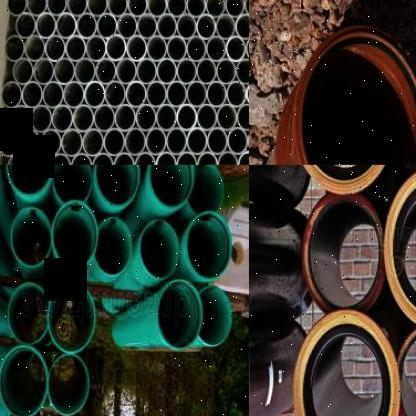pipe: (297, 28, 416, 165), (293, 308, 399, 416), (302, 192, 386, 312), (384, 166, 416, 330), (47, 280, 96, 353), (0, 345, 48, 416), (158, 278, 204, 350), (52, 199, 98, 268), (186, 211, 232, 279), (48, 354, 90, 416), (7, 282, 48, 345), (10, 207, 51, 266), (140, 219, 180, 279), (95, 216, 132, 276), (198, 286, 233, 346), (149, 165, 195, 207), (95, 165, 141, 206), (396, 325, 416, 416), (187, 164, 223, 214), (53, 164, 92, 202), (6, 165, 52, 195), (82, 128, 104, 158), (63, 80, 85, 110), (40, 129, 62, 158), (61, 129, 83, 158), (186, 127, 208, 156), (94, 104, 116, 133), (114, 104, 136, 133), (31, 104, 52, 134), (10, 104, 31, 134), (52, 104, 73, 134), (73, 104, 94, 134), (22, 80, 43, 110), (42, 80, 63, 110), (103, 128, 125, 156), (124, 128, 146, 156), (176, 104, 198, 132), (186, 80, 208, 108), (74, 58, 96, 86), (156, 58, 178, 86), (96, 12, 118, 40), (76, 12, 98, 40), (19, 129, 40, 158), (166, 127, 187, 156), (207, 127, 228, 156), (84, 80, 105, 109), (105, 80, 126, 109), (146, 80, 167, 109), (166, 80, 187, 109), (95, 57, 116, 86), (34, 57, 55, 86), (54, 57, 75, 86), (116, 57, 137, 86), (2, 80, 22, 110), (146, 35, 168, 62), (136, 13, 158, 40), (116, 13, 138, 40), (227, 127, 248, 155), (135, 104, 156, 132), (156, 104, 177, 132), (196, 58, 217, 86), (14, 58, 35, 86), (176, 58, 197, 86), (136, 58, 157, 86), (56, 12, 77, 40), (0, 128, 20, 157), (227, 80, 247, 109), (86, 35, 107, 62), (5, 35, 26, 62), (45, 35, 66, 62), (25, 35, 46, 62), (126, 35, 147, 62), (106, 35, 127, 62), (146, 128, 166, 156), (217, 104, 237, 132), (197, 104, 217, 132), (126, 80, 146, 108), (207, 80, 227, 108), (216, 58, 236, 86), (216, 13, 236, 41), (16, 12, 36, 40), (36, 12, 56, 40), (176, 14, 197, 40), (167, 35, 187, 62), (66, 35, 86, 62), (157, 13, 177, 40), (226, 36, 246, 62), (206, 36, 226, 62), (186, 36, 206, 62), (196, 14, 216, 40), (235, 58, 250, 86), (234, 13, 249, 40), (224, 0, 245, 19), (206, 0, 226, 19), (186, 0, 206, 19), (107, 0, 128, 18), (66, 0, 88, 17), (167, 0, 187, 18), (147, 0, 167, 18), (127, 0, 147, 18), (237, 103, 249, 132), (88, 0, 108, 17), (26, 0, 46, 17), (6, 0, 26, 17), (46, 0, 66, 17), (197, 150, 218, 165), (176, 150, 197, 165), (217, 150, 238, 165), (113, 151, 134, 165), (134, 151, 155, 165), (155, 151, 176, 165), (6, 153, 28, 165), (28, 153, 50, 165), (48, 153, 70, 165), (71, 153, 92, 165), (92, 153, 113, 165), (238, 150, 249, 165)
